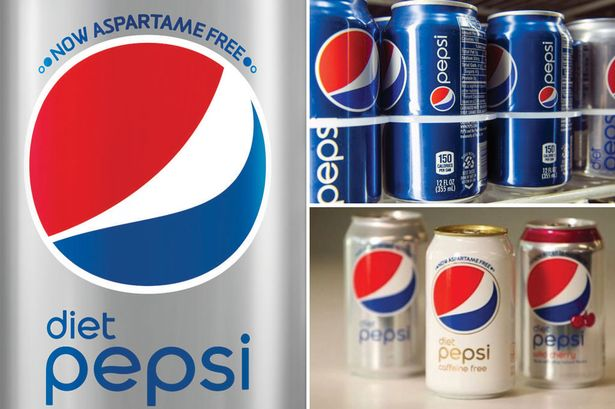can: (390, 1, 485, 200), (308, 1, 395, 215), (485, 3, 583, 187), (426, 223, 524, 390), (342, 210, 424, 372), (524, 218, 601, 377)
